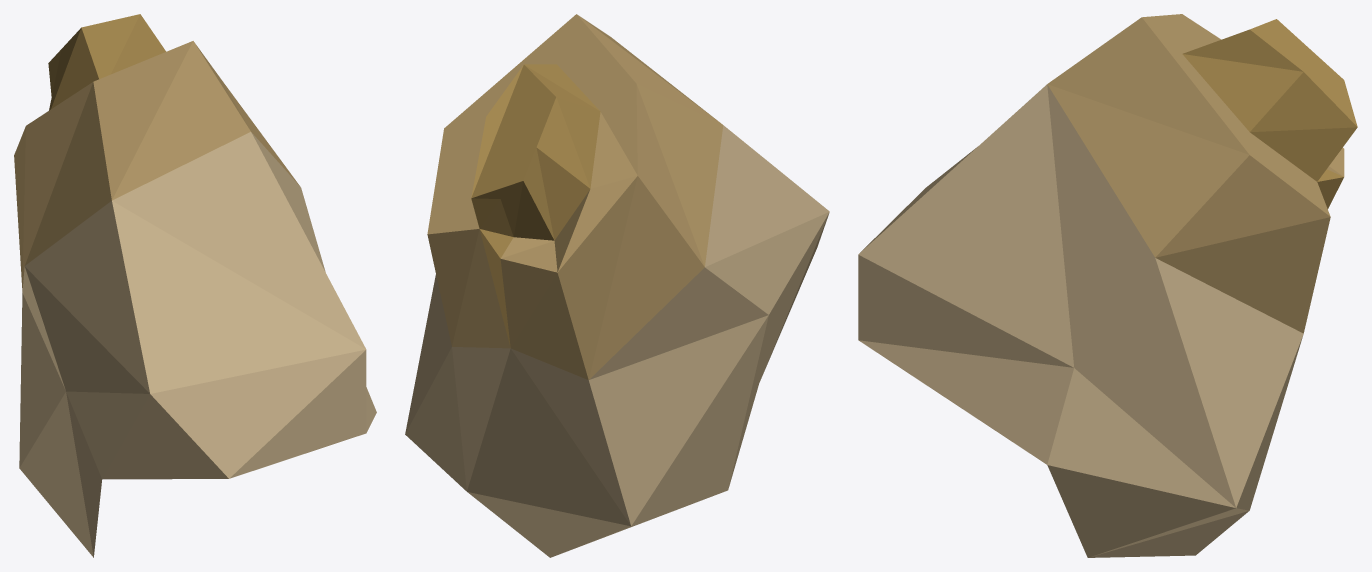
The picture shows the model from 3 angles, left to right: view 1: azimuth 30°, elevation 25°; view 2: azimuth 150°, elevation 25°; view 3: azimuth 270°, elevation 25°; orthographic projection. The views are drawn at different scales.
Size of the model in its own units: 26 by 44 by 37.
1 material, 1 textured.
